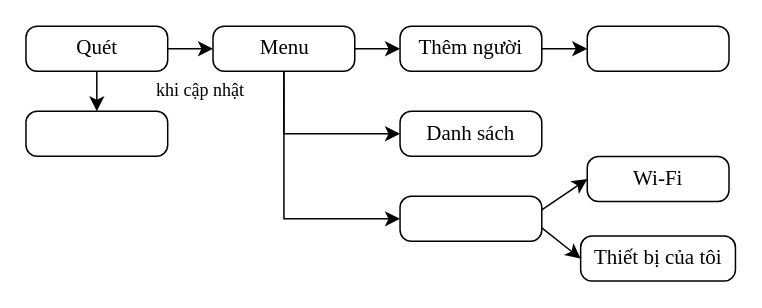
Image size: 762x308. Some labels were removed from this diagram. Each missing label, with the box of its shape:
Chụp mẫu: (586, 25, 729, 71)
Cài đặt: (399, 195, 542, 241)
Cập nhật: (24, 110, 168, 156)
